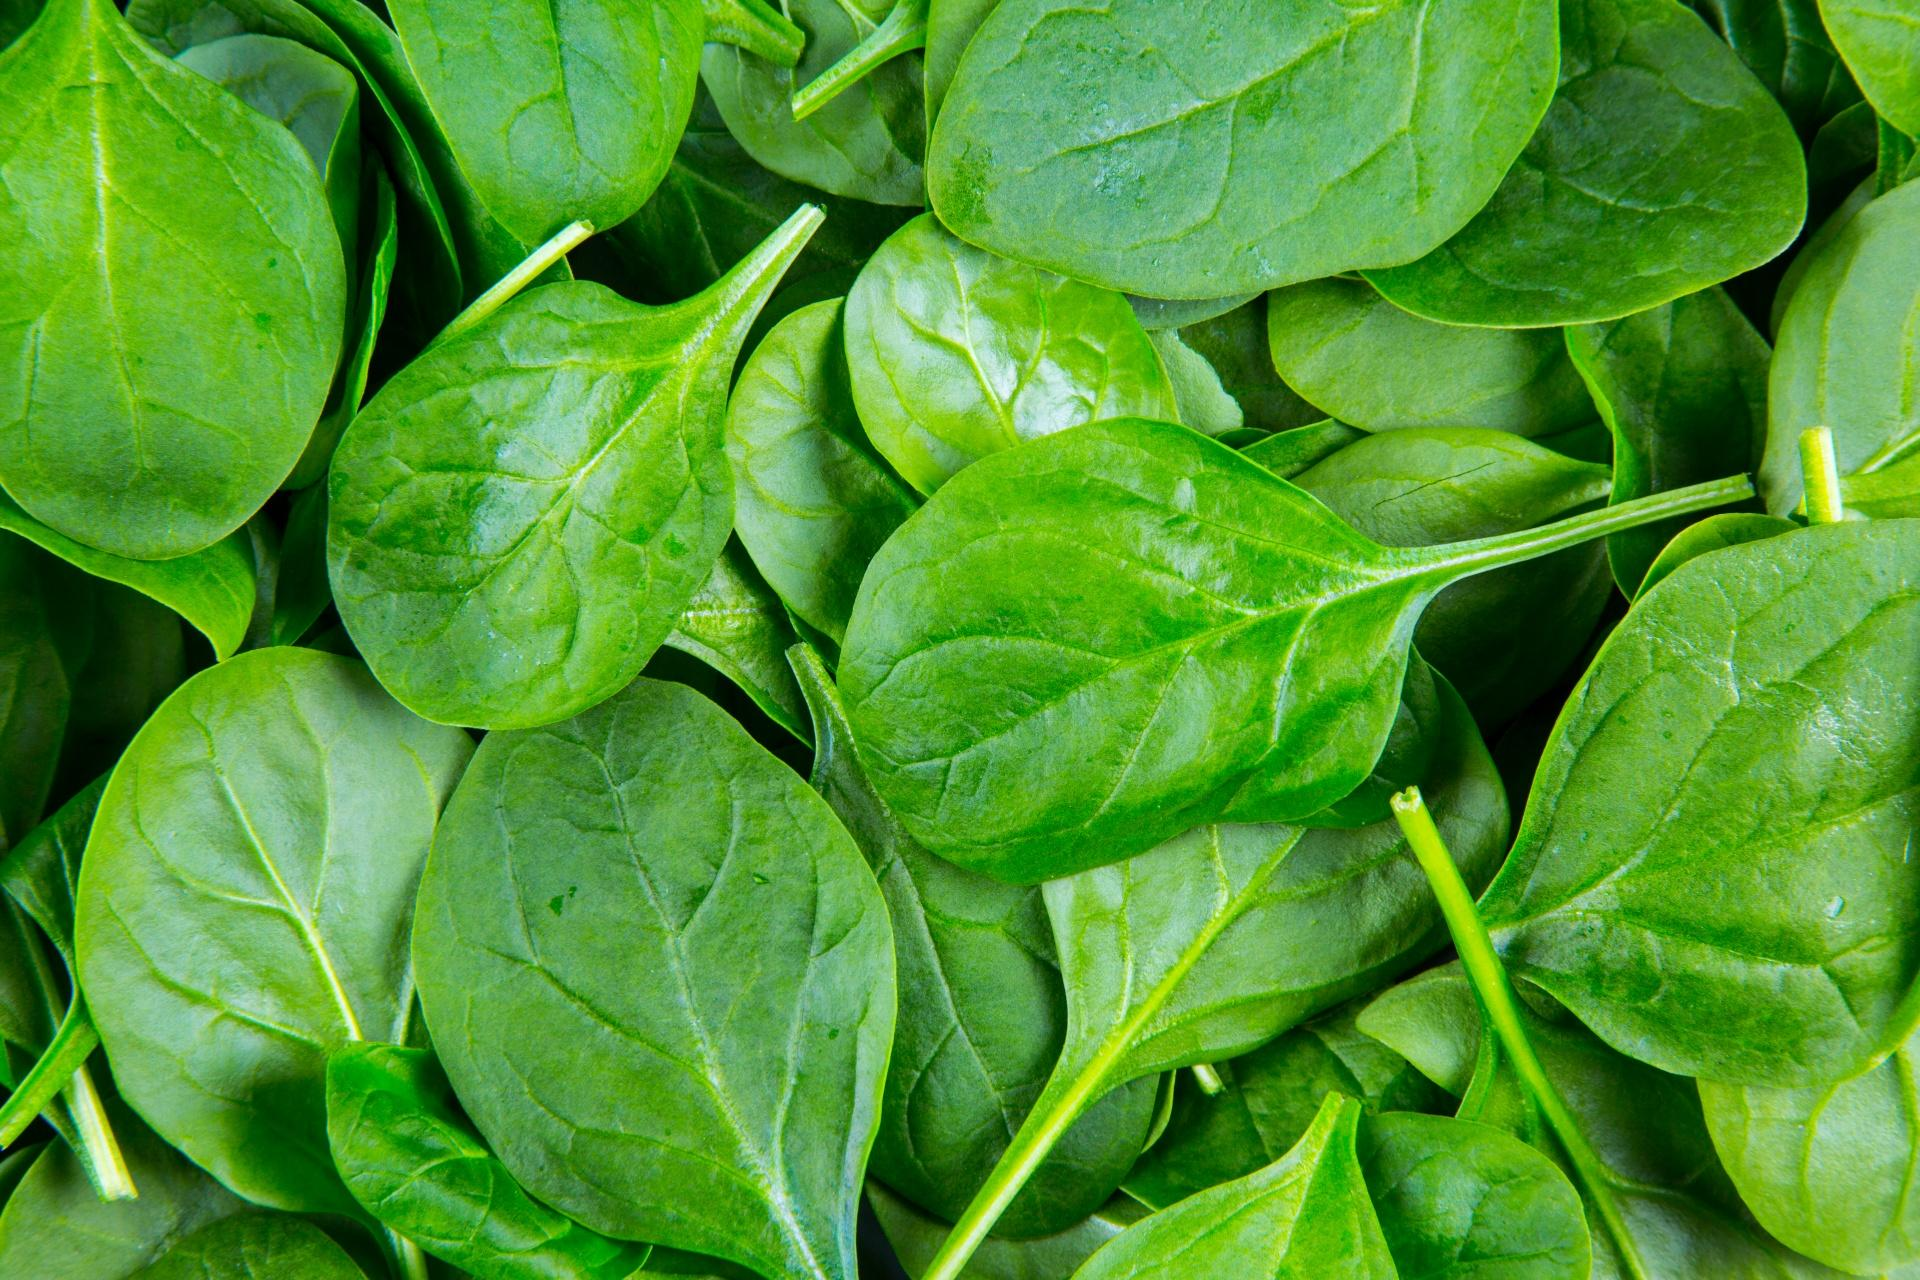spinach: (3, 1, 1914, 1276)
